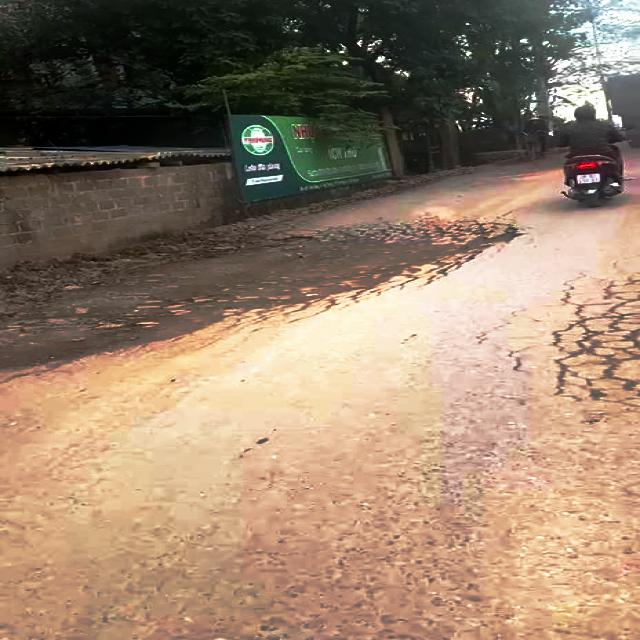pothole: (0, 218, 499, 331)
